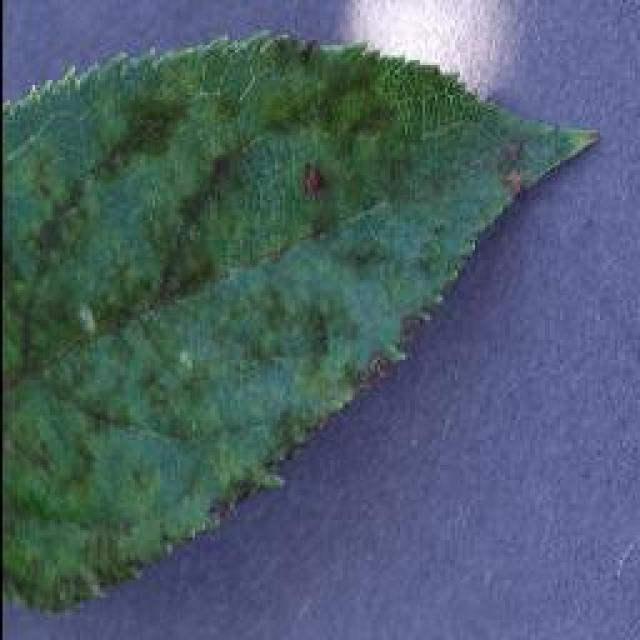apple scab disease: (0, 28, 600, 612)
